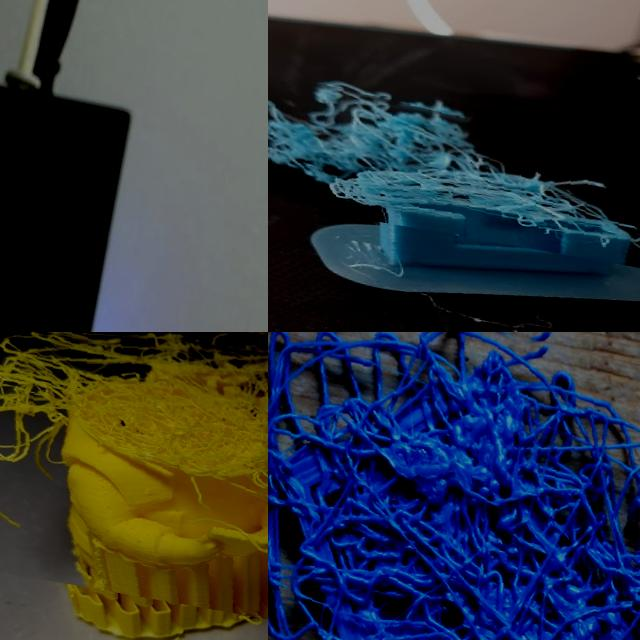spaghetti: (268, 332, 640, 640), (0, 332, 268, 640), (268, 86, 640, 268)
